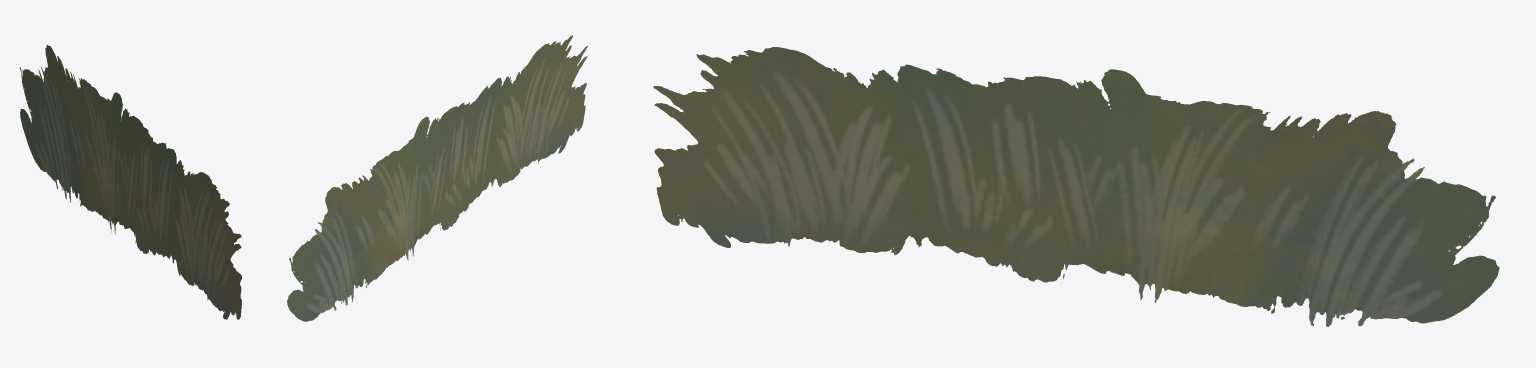
Rendered from grass8_002.fbx.
3 renders of one model, left to right at view 1: azimuth 30°, elevation 25°; view 2: azimuth 150°, elevation 25°; view 3: azimuth 270°, elevation 25°, orthographic. The views are drawn at different scales.
Visible parts, largest first — view 1: grass8.002; view 2: grass8.002; view 3: grass8.002.
Boxes of the visible parts, x1,y1,x2,y2 form: grass8.002: (20,45,241,319); grass8.002: (287,35,587,321); grass8.002: (653,47,1499,326).
Size of the model in its own units: 53.3 by 174 by 471.
